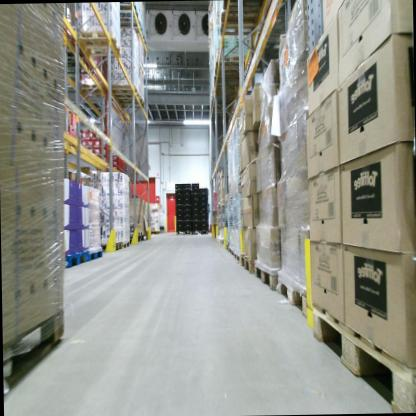pallet: (309, 301, 416, 412), (3, 306, 67, 395), (277, 269, 310, 318), (72, 30, 124, 58), (218, 10, 268, 39), (211, 65, 248, 88), (253, 259, 281, 289), (214, 52, 252, 74), (73, 81, 110, 99), (217, 0, 275, 11), (108, 80, 138, 100), (62, 250, 90, 270), (114, 97, 145, 111), (117, 20, 142, 37), (240, 248, 256, 274), (117, 3, 140, 21), (87, 246, 106, 265), (101, 239, 122, 253), (191, 225, 213, 236), (122, 230, 143, 240), (173, 228, 192, 237), (136, 32, 147, 46), (233, 249, 241, 263), (224, 239, 230, 254), (120, 240, 130, 248), (229, 244, 235, 257)
small_load_carrier: (198, 186, 209, 196), (173, 182, 184, 190), (172, 188, 184, 195), (173, 193, 183, 201), (199, 196, 210, 203), (174, 203, 183, 211), (183, 223, 192, 231), (200, 220, 209, 228), (182, 207, 192, 214), (199, 213, 209, 220), (199, 207, 209, 214), (176, 223, 184, 231), (192, 220, 200, 228), (174, 198, 183, 205), (182, 202, 192, 208), (175, 211, 183, 218), (191, 182, 199, 189), (191, 188, 199, 195), (191, 195, 199, 202), (183, 182, 191, 188), (191, 202, 199, 208), (191, 208, 199, 214), (183, 214, 192, 219), (182, 197, 191, 202), (182, 193, 191, 198), (192, 214, 199, 220), (175, 218, 183, 223), (183, 188, 191, 193), (199, 203, 209, 207), (183, 219, 192, 223)
